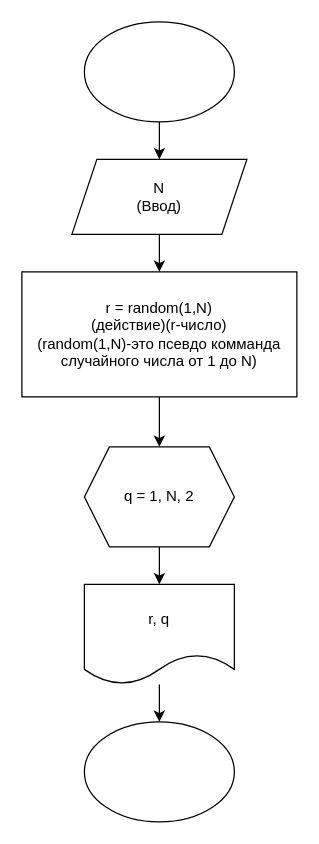
This 319x844 diagram has some shape labels left out. The shapes that lost their labels are listed below. From the top down, each one's centre as x and y in pixels, then its label:
point (158, 71): Start
point (158, 771): Finish
